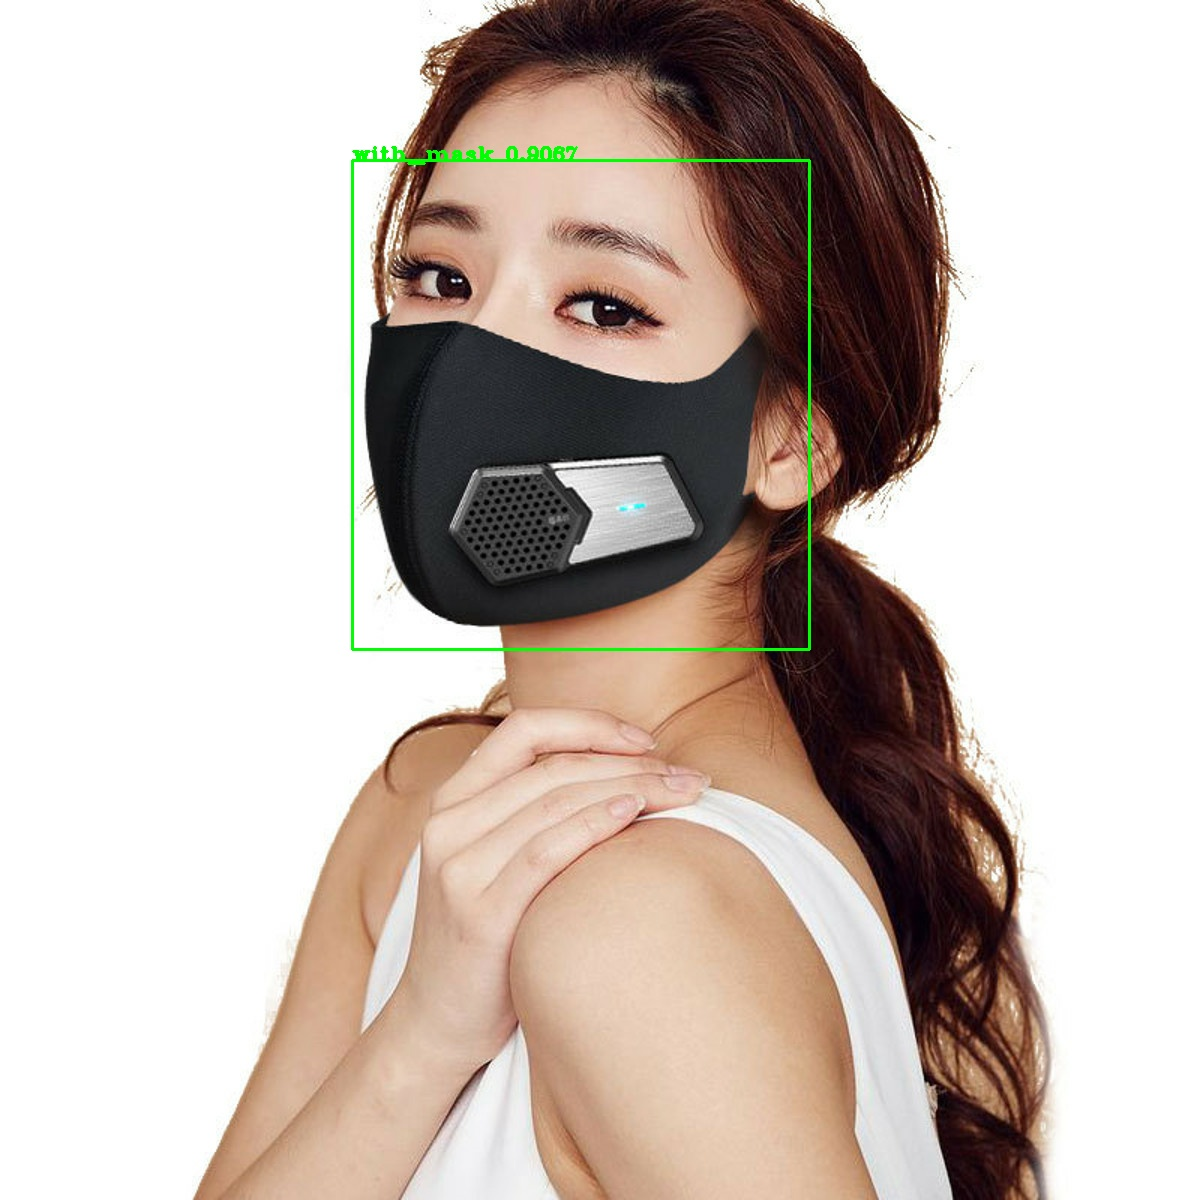with_mask: (324, 55, 855, 643)
